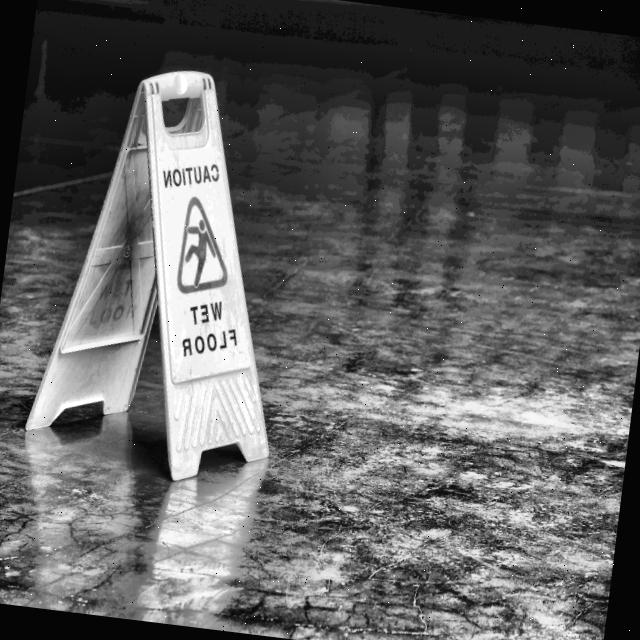slippery ground: (0, 27, 329, 523)
